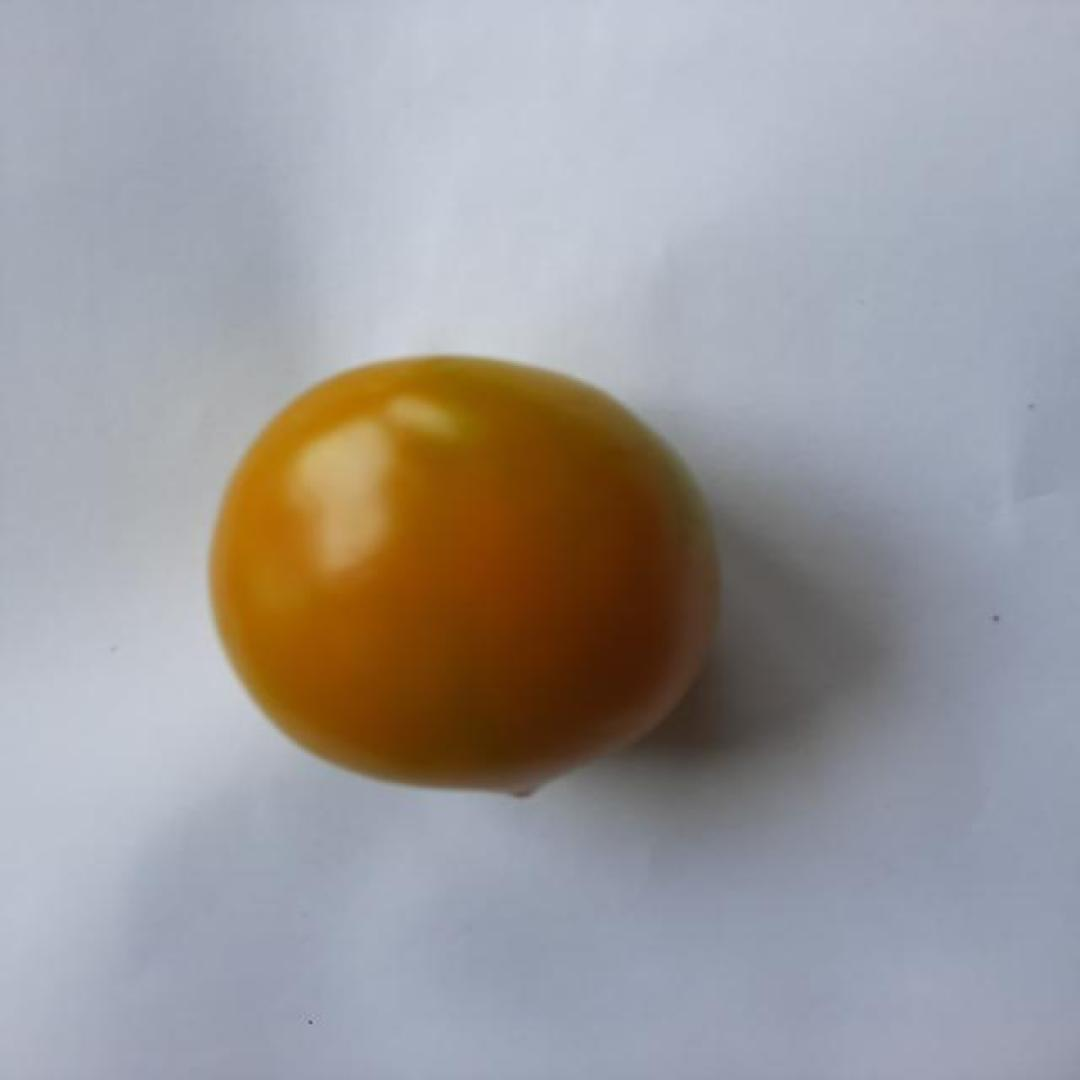setengah_matang: (199, 351, 722, 800)
